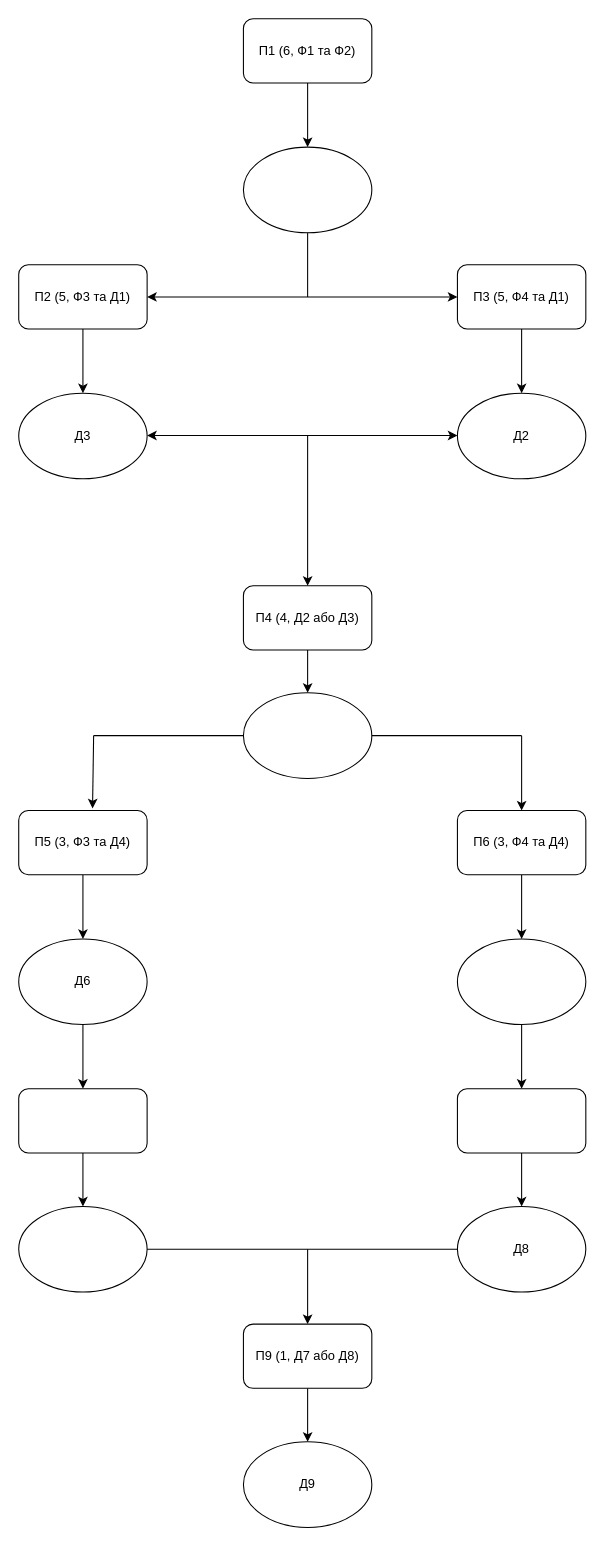
The diagram is 605 pixels wide and 1546 high, and some of its shapes have lost their labels. The shapes that lost their labels are listed below. From the top down, each one's centre as x and y in pixels, then its label:
At (x=307, y=189): "Д1".
At (x=307, y=735): "Д4".
At (x=521, y=981): "Д5".
At (x=82, y=1120): "П7 (2, Д5)".
At (x=521, y=1120): "П8 (2, Д6)".
At (x=82, y=1248): "Д7".
